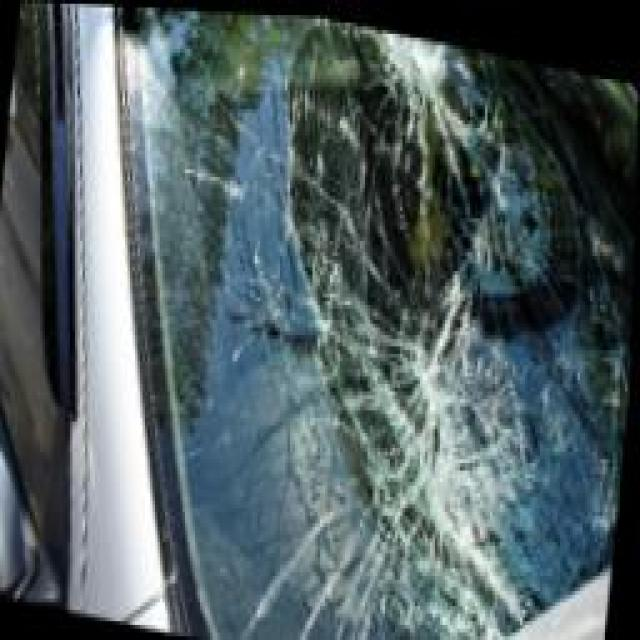Windshield: (121, 5, 639, 640)
